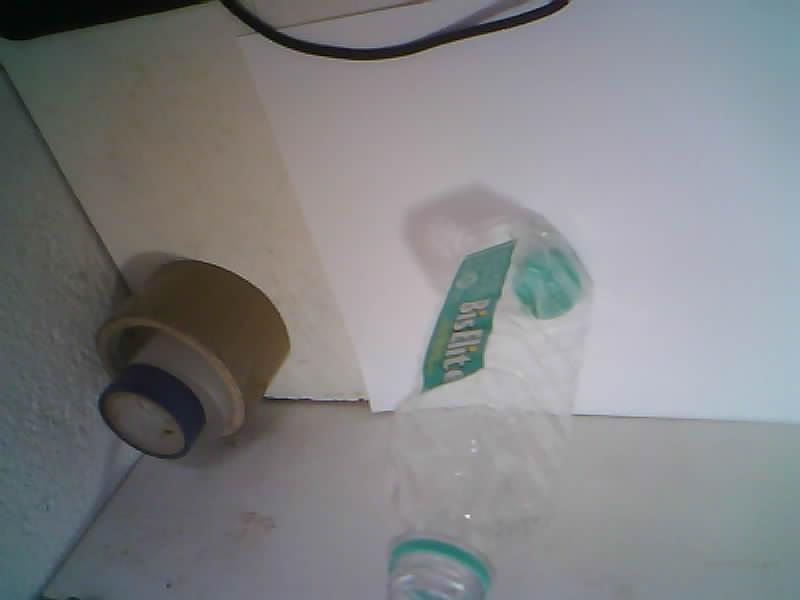non-biodegradable: (387, 213, 591, 599)
